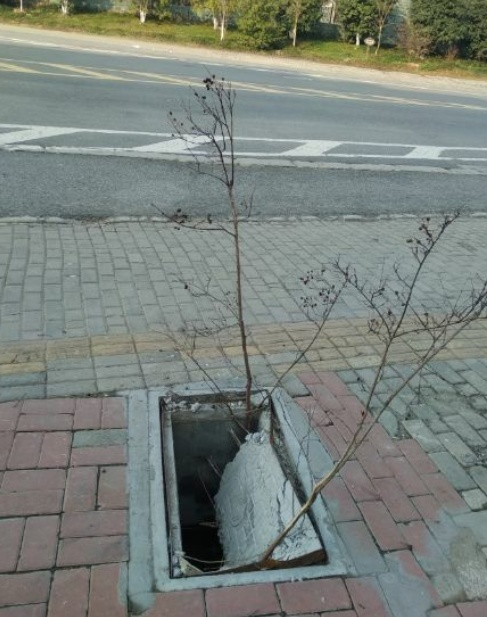broke: (146, 387, 351, 593)
